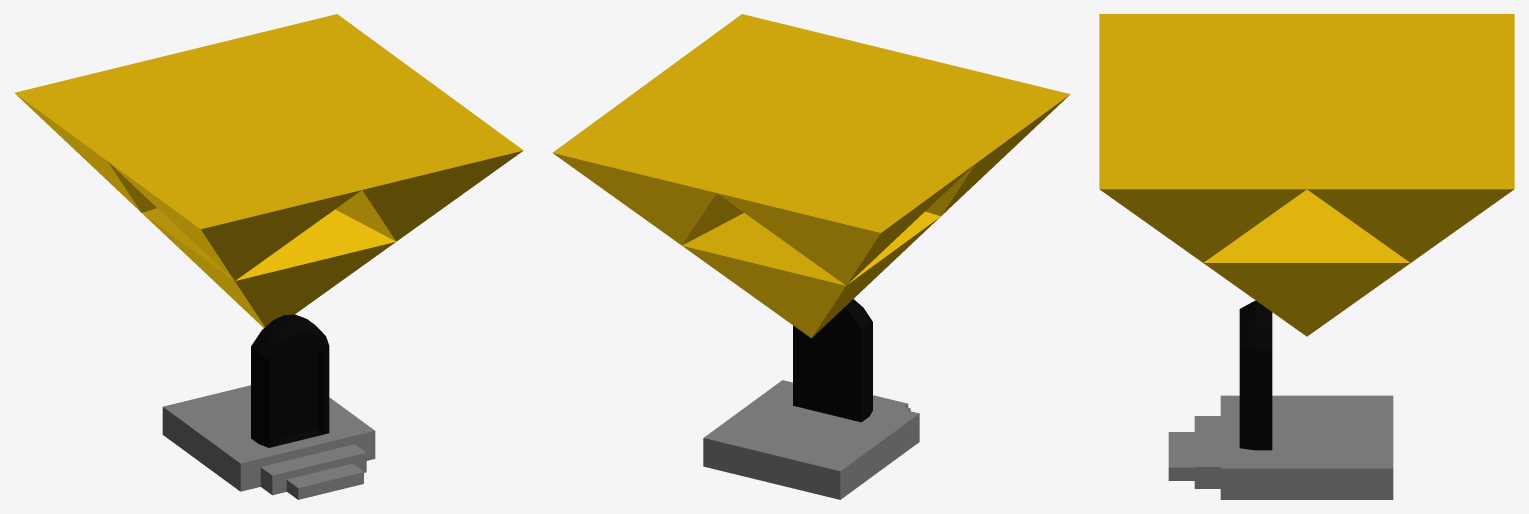
Rendered from ShrienModel01.1.fbx.
3 views of the same model, side by side, from view 1: azimuth 30°, elevation 25°; view 2: azimuth 150°, elevation 25°; view 3: azimuth 270°, elevation 25° (orthographic). The views are drawn at different scales.
Visible parts, largest first — view 1: Plane, Cube, Cube.003, Cube.001, Cube.002; view 2: Plane, Cube, Cube.003; view 3: Plane, Cube, Cube.003, Cube.001, Cube.002.
Boxes of the visible parts, box(x1,y1,x2,y2) form: Plane: box(14, 14, 523, 327); Cube: box(162, 385, 375, 491); Cube.003: box(251, 314, 329, 447); Cube.001: box(260, 444, 366, 495); Cube.002: box(286, 463, 363, 499); Plane: box(552, 14, 1070, 338); Cube: box(703, 380, 919, 499); Cube.003: box(793, 299, 872, 422); Plane: box(1099, 14, 1514, 336); Cube: box(1220, 395, 1393, 499); Cube.003: box(1239, 300, 1272, 450); Cube.001: box(1194, 416, 1220, 488); Cube.002: box(1168, 432, 1194, 480).
Size of the model in its own units: 480 by 462 by 480.
